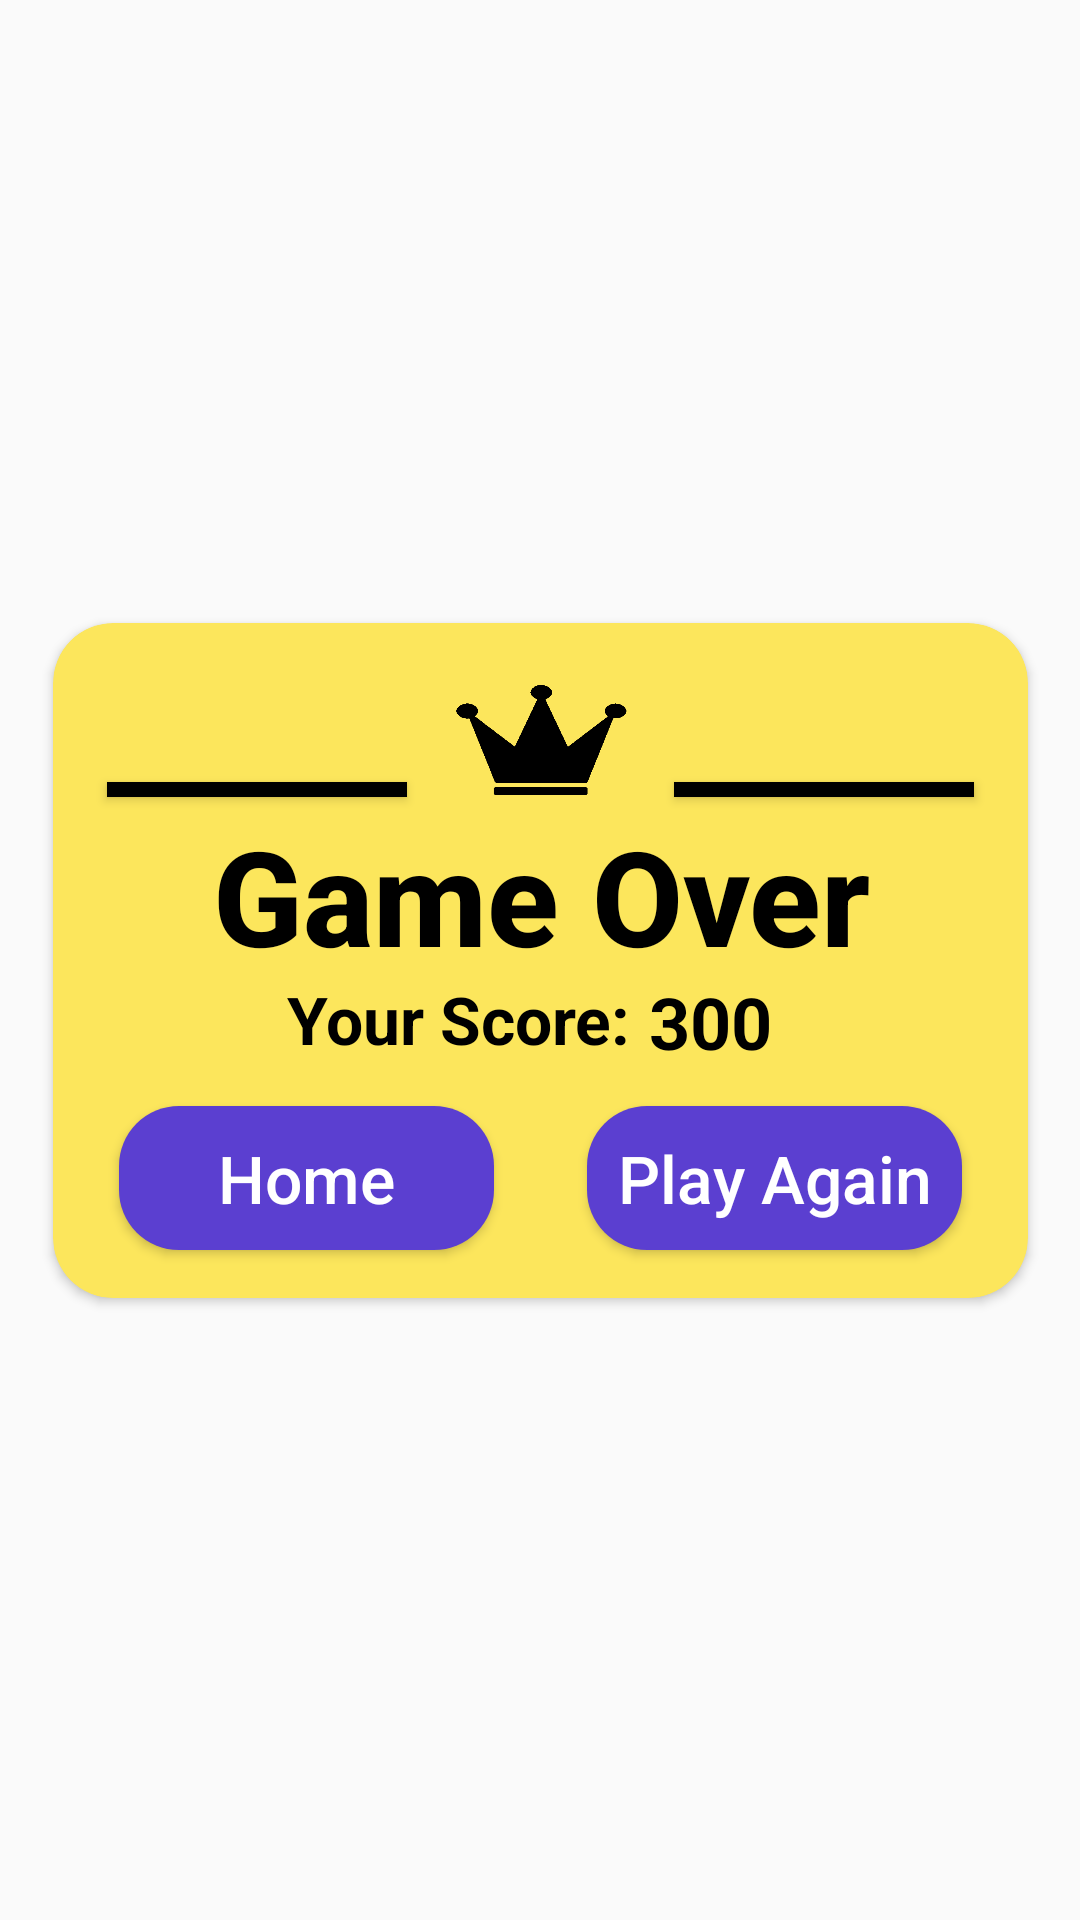

Where icons sit on this 1080x1920 app screen, as (x1, y1, x2, y2):
crown: (456, 685, 627, 795)
